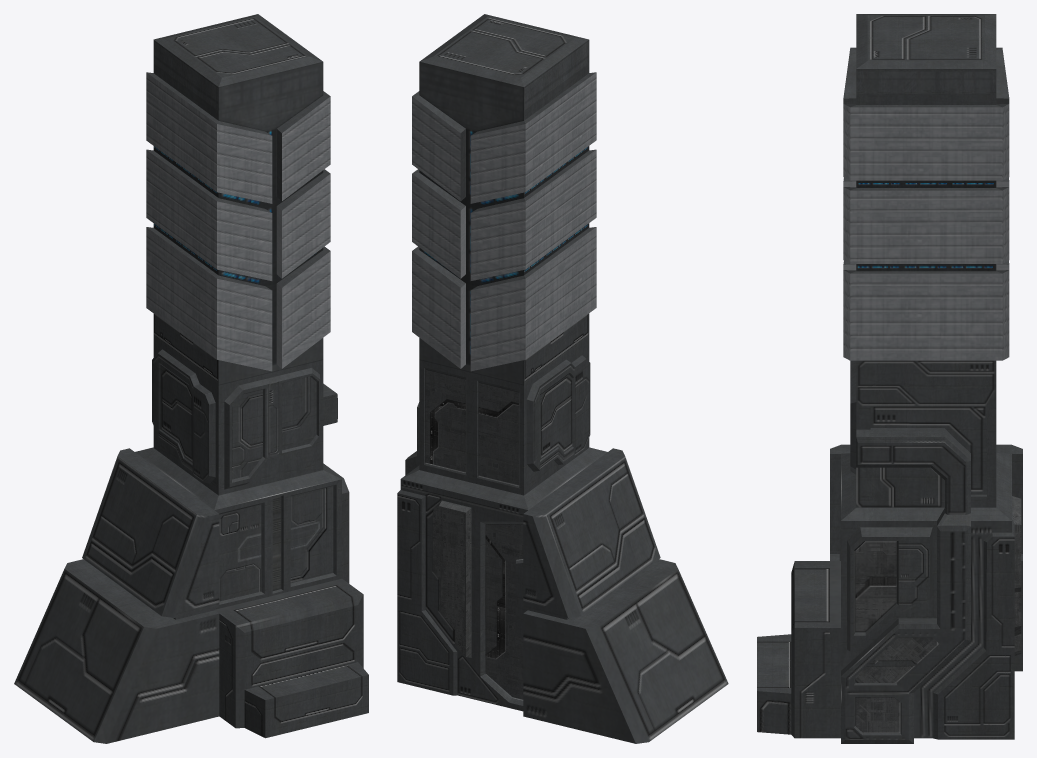
The model's file is tower-01.fbx.
The picture shows the model from 3 angles, left to right: view 1: azimuth 30°, elevation 25°; view 2: azimuth 150°, elevation 25°; view 3: azimuth 270°, elevation 25°; orthographic projection. The views are drawn at different scales.
Visible parts, largest first — view 1: tower-01; view 2: tower-01; view 3: tower-01.
Boxes of the visible parts, bbox=[...] form: tower-01: bbox=[14, 14, 368, 743]; tower-01: bbox=[397, 14, 728, 743]; tower-01: bbox=[757, 14, 1022, 743].
Bounding box in the file's own units: 80 × 180 × 65.
